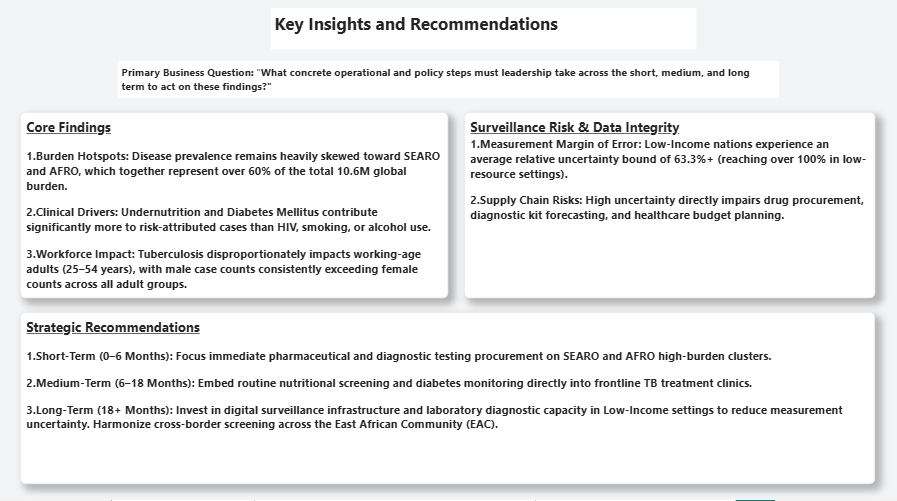

The page's visual inventory and layout, read from the dashboard file:
{"tool":"powerbi","page":{"name":"Insights & Recommendations","canvas":[1280,720],"ordinal":2},"visuals":[{"type":"textbox","box":[32.6,170.1,606.6,263.6],"z":0},{"type":"textbox","box":[661.9,170.1,582.5,263.6],"z":1000},{"type":"textbox","box":[32.6,453.5,1211.8,243.8],"z":2000},{"type":"textbox","box":[388.8,23,603.4,59],"z":3000},{"type":"textbox","box":[171.5,97.8,936.9,52.4],"z":4000}]}

Visuals, with their boxes in screenshot pixels (x1, y1, x2, y2), scaled from the page's 1280x720 canvas onto the 897x501 screenshot:
textbox: 23, 118, 448, 302
textbox: 464, 118, 872, 302
textbox: 23, 316, 872, 485
textbox: 272, 16, 695, 57
textbox: 120, 68, 777, 105
